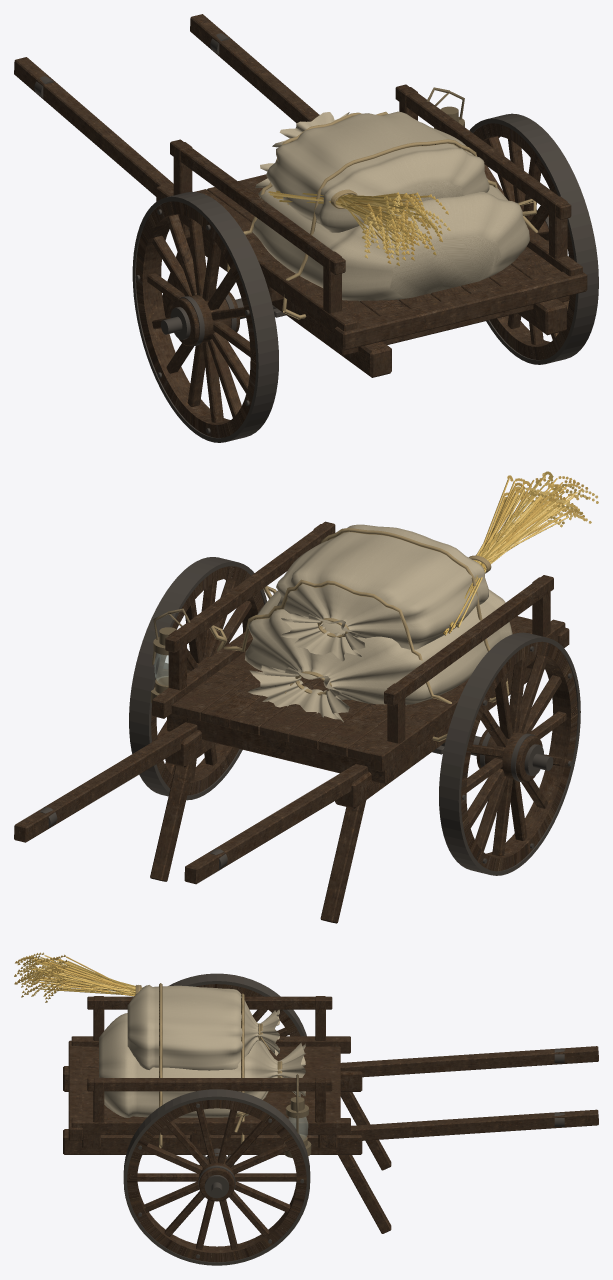
The model's file is rickshaw.glb.
3 renders of one model, top to bottom at view 1: azimuth 30°, elevation 25°; view 2: azimuth 150°, elevation 25°; view 3: azimuth 270°, elevation 25°, orthographic. The views are drawn at different scales.
Parts seen in each view (by area): view 1: Rickshaw_Cart_Wood, Rickshaw_Cart_Linen, Rickshaw_Cart_Iron, Rickshaw_Cart_straw, Rickshaw_Cart_Hemp; view 2: Rickshaw_Cart_Wood, Rickshaw_Cart_Linen, Rickshaw_Cart_Iron, Rickshaw_Cart_straw, Rickshaw_Cart_Hemp, Rickshaw_Cart_Lantern_Metal; view 3: Rickshaw_Cart_Wood, Rickshaw_Cart_Linen, Rickshaw_Cart_Iron, Rickshaw_Cart_straw, Rickshaw_Cart_Hemp, Rickshaw_Cart_Lantern_Metal.
Boxes of the visible parts, x1,y1,x2,y2 form: Rickshaw_Cart_Wood: (14,14,587,437); Rickshaw_Cart_Linen: (252,111,529,301); Rickshaw_Cart_Iron: (34,33,598,442); Rickshaw_Cart_straw: (268,190,450,265); Rickshaw_Cart_Hemp: (227,111,537,319); Rickshaw_Cart_Wood: (14,521,577,923); Rickshaw_Cart_Linen: (245,524,512,722); Rickshaw_Cart_Iron: (39,557,580,875); Rickshaw_Cart_straw: (443,471,598,635); Rickshaw_Cart_Hemp: (209,528,509,741); Rickshaw_Cart_Lantern_Metal: (151,608,190,702); Rickshaw_Cart_Wood: (63,984,598,1262); Rickshaw_Cart_Linen: (99,985,305,1117); Rickshaw_Cart_Iron: (123,973,564,1265); Rickshaw_Cart_straw: (14,952,142,1002); Rickshaw_Cart_Hemp: (135,983,282,1148); Rickshaw_Cart_Lantern_Metal: (284,1074,311,1157).
Size of the model in its own units: 2.39 by 1.67 by 4.06.
7 materials, 2 textured.
